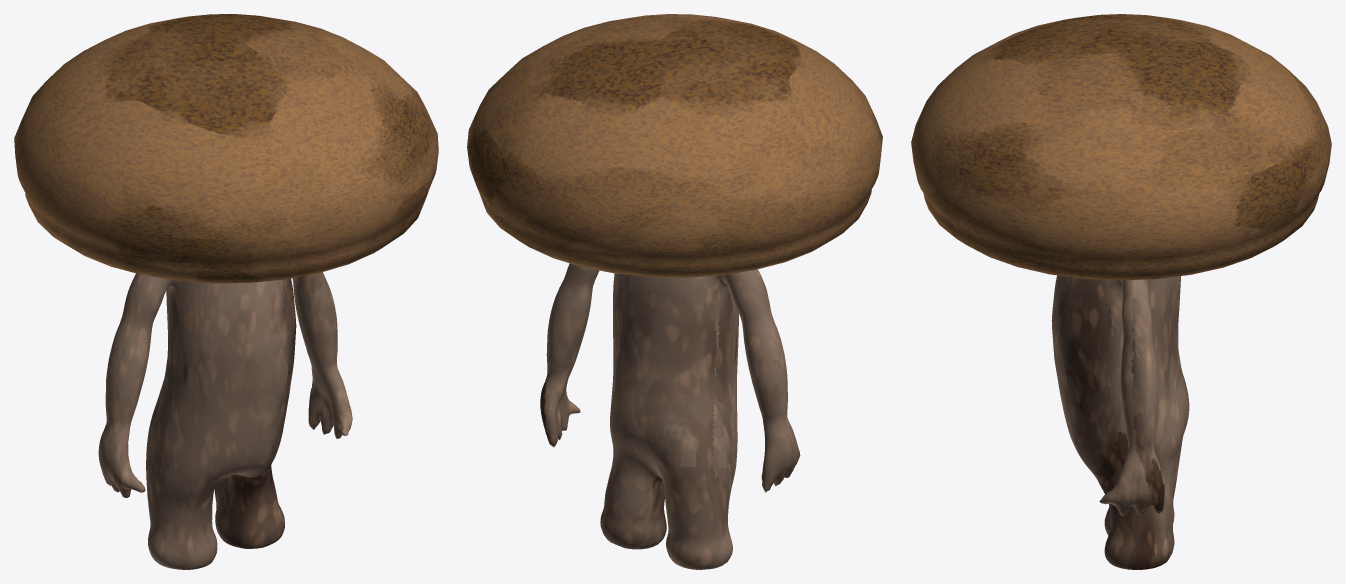
Rendered from Hbase_grib.fbx.
The picture shows the model from 3 angles, left to right: view 1: azimuth 30°, elevation 25°; view 2: azimuth 150°, elevation 25°; view 3: azimuth 270°, elevation 25°; orthographic projection. The views are drawn at different scales.
Parts seen in each view (by area): view 1: Cylinder.001; view 2: Cylinder.001; view 3: Cylinder.001.
Part boxes in pixels (left/top/right/bottom): Cylinder.001: left=14, top=14, right=438, bottom=569; Cylinder.001: left=467, top=14, right=882, bottom=569; Cylinder.001: left=911, top=14, right=1331, bottom=569.
Bounding box in the file's own units: 753 × 1000 × 753.
